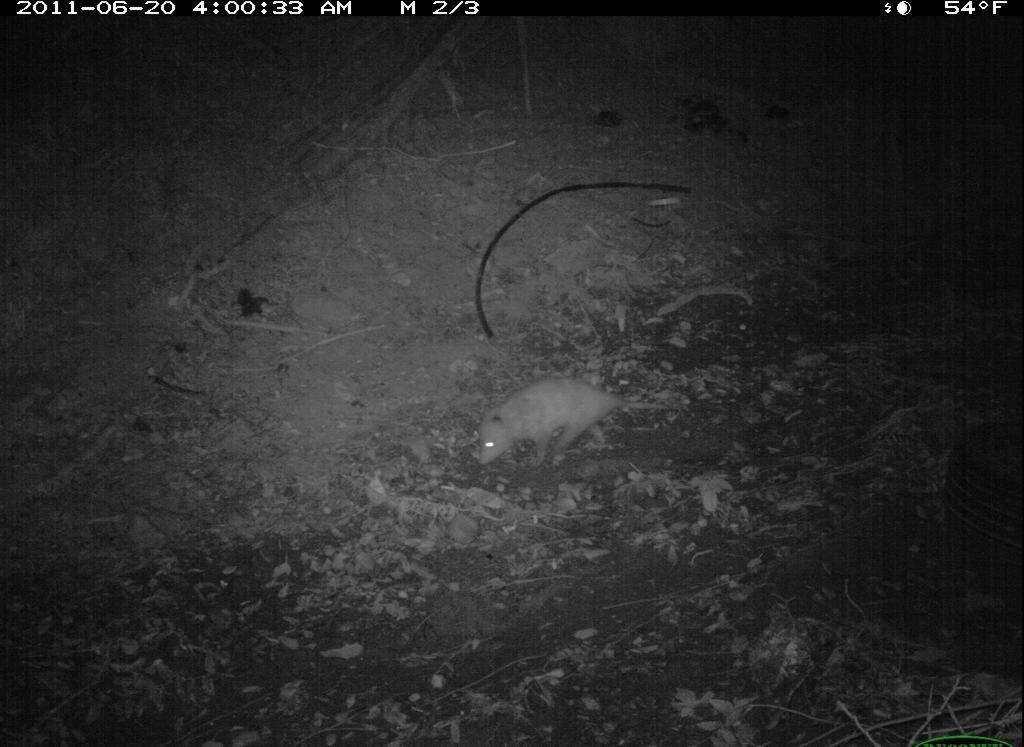opossum: (455, 367, 655, 482)
